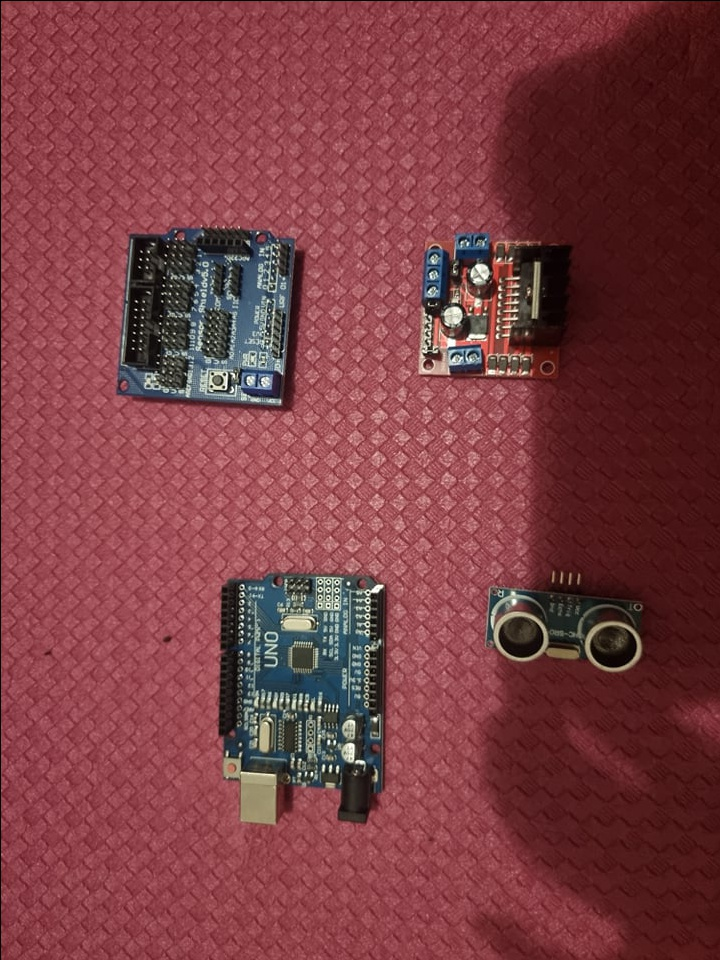5V EXPANSION: (119, 225, 300, 411)
MOTOR: (422, 232, 571, 375)
SENSOR: (483, 584, 648, 673)
UNO R3: (213, 569, 387, 825)
